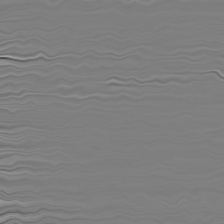cavities: (50, 38, 125, 221)
